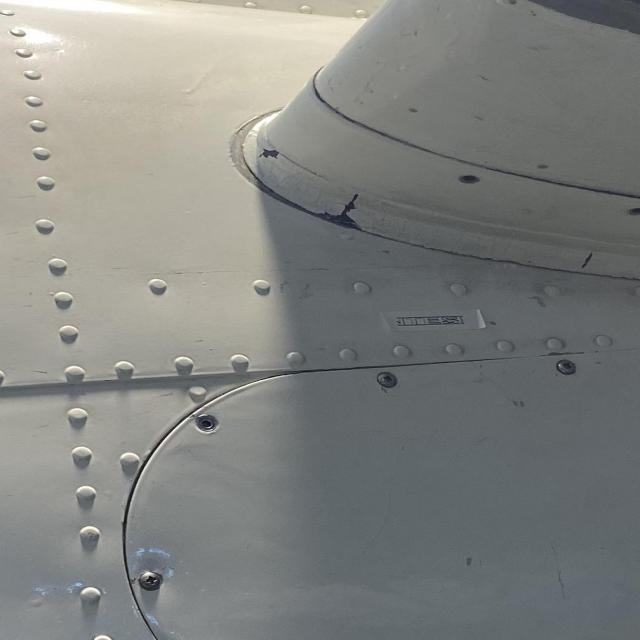Missing-head: (190, 413, 220, 434), (457, 174, 481, 185), (627, 206, 640, 217)
